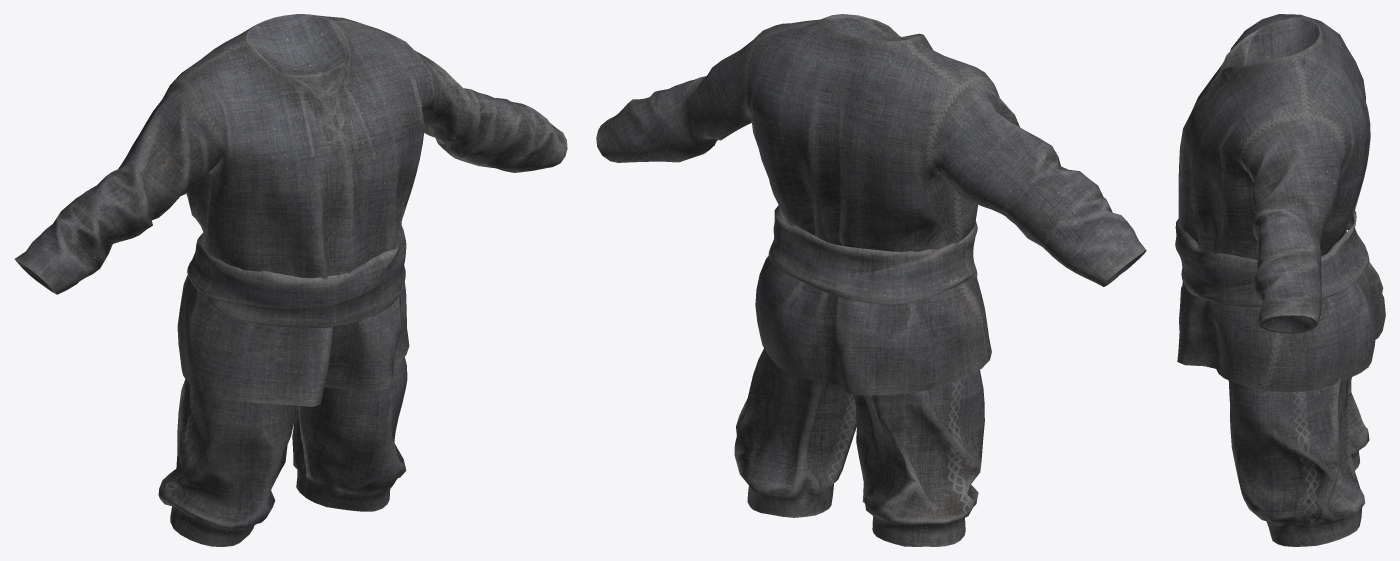
File: sk_dwarf_tunic_normal_b.fbx
The picture shows the model from 3 angles, left to right: view 1: azimuth 30°, elevation 25°; view 2: azimuth 150°, elevation 25°; view 3: azimuth 270°, elevation 25°; orthographic projection. The views are drawn at different scales.
Parts seen in each view (by area): view 1: sk_dwarf_tunic_normal_b.1, sk_dwarf_tunic_normal_b.0; view 2: sk_dwarf_tunic_normal_b.1, sk_dwarf_tunic_normal_b.0; view 3: sk_dwarf_tunic_normal_b.1, sk_dwarf_tunic_normal_b.0.
Part boxes in pixels (bbox=[...]): sk_dwarf_tunic_normal_b.1: bbox=[14, 14, 567, 406]; sk_dwarf_tunic_normal_b.0: bbox=[158, 226, 407, 546]; sk_dwarf_tunic_normal_b.1: bbox=[596, 14, 1146, 395]; sk_dwarf_tunic_normal_b.0: bbox=[734, 205, 984, 546]; sk_dwarf_tunic_normal_b.1: bbox=[1177, 14, 1385, 392]; sk_dwarf_tunic_normal_b.0: bbox=[1175, 210, 1369, 546].
Size of the model in its own units: 1.16 by 0.414 by 1.02.
2 materials, 2 textured.
